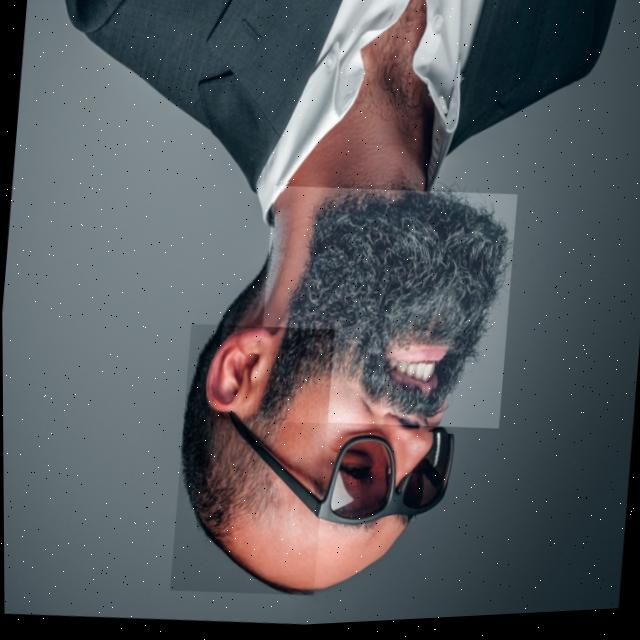beard: (255, 194, 511, 422)
hair: (180, 327, 313, 598)
